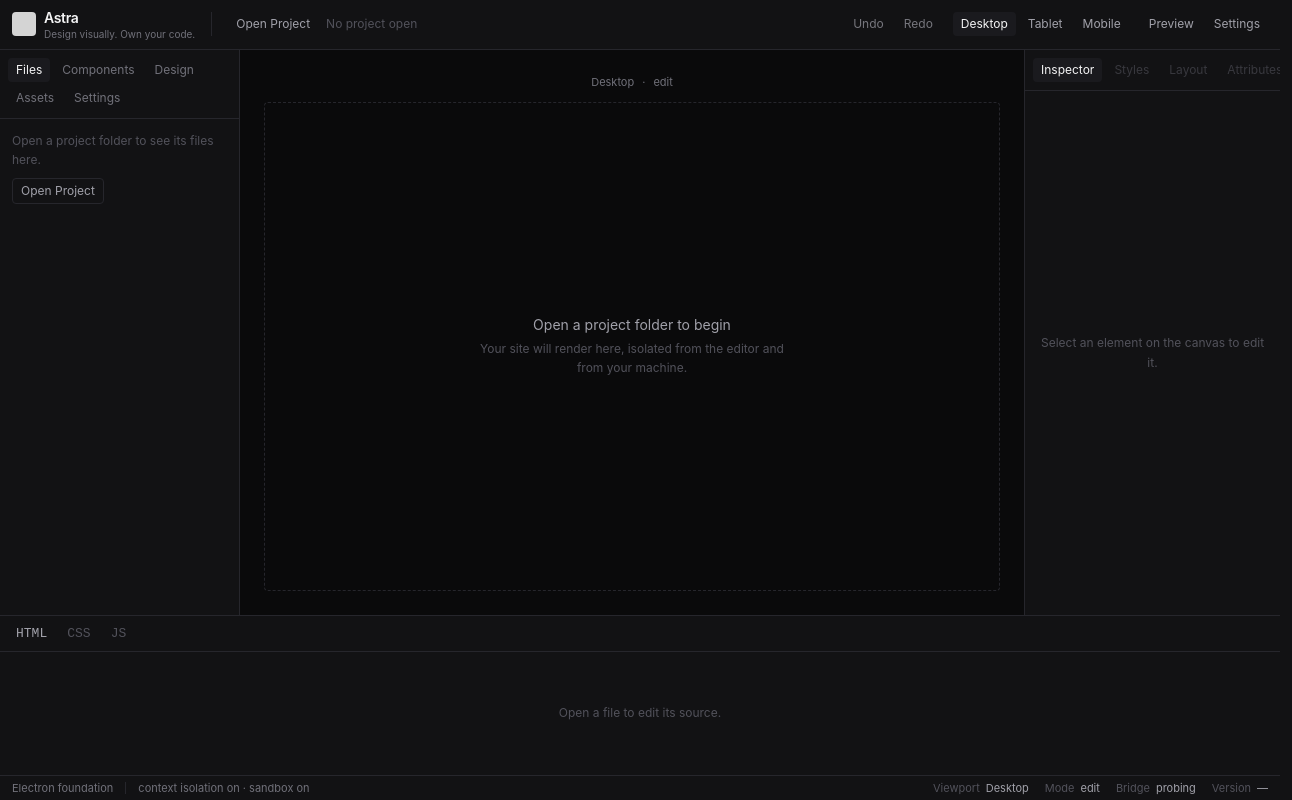
Scenario: App shell — entry point › says so honestly when the project has no entry page
Click the button with aria-label "open a project folder".
click(273, 24)  # box x1=228 y1=12 x2=318 y2=36
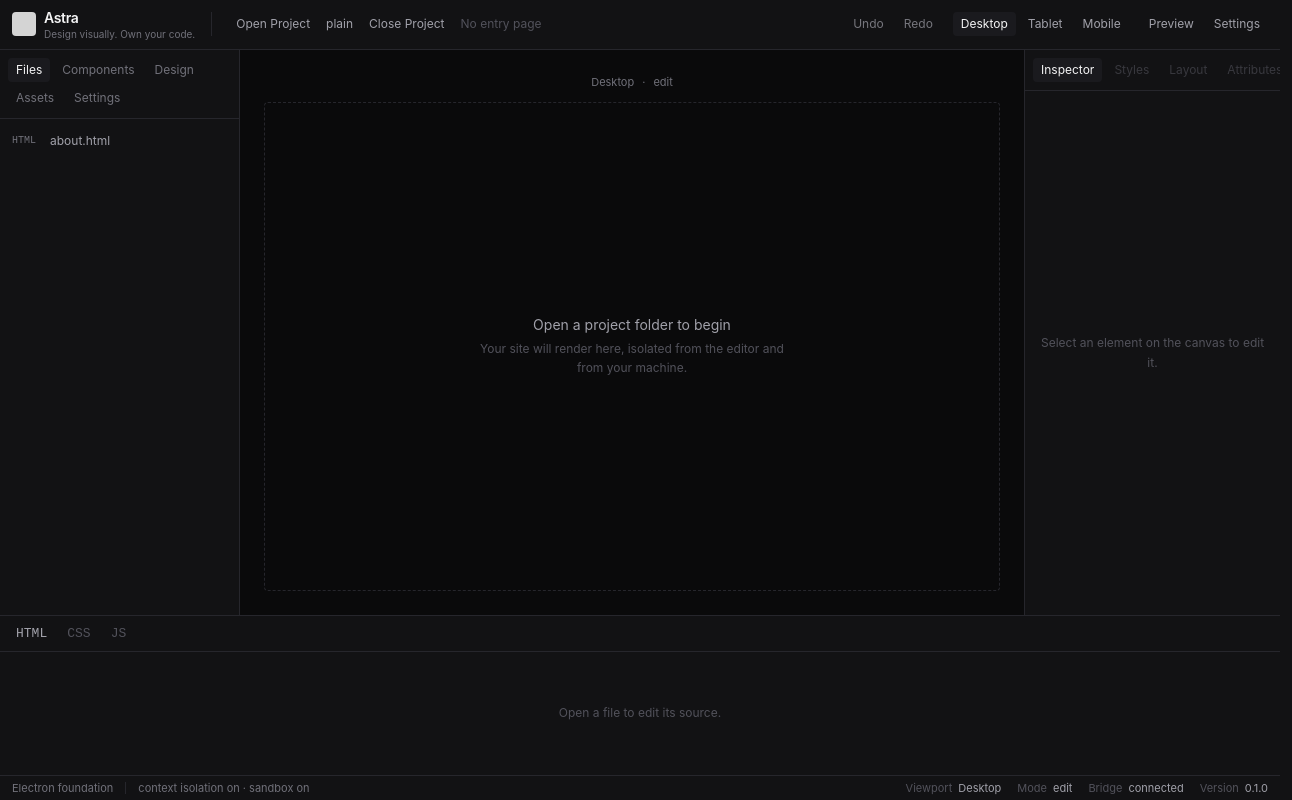
Now the text with test id "no-entry-point" reads "No entry page", box x1=460 y1=16 x2=542 y2=31
